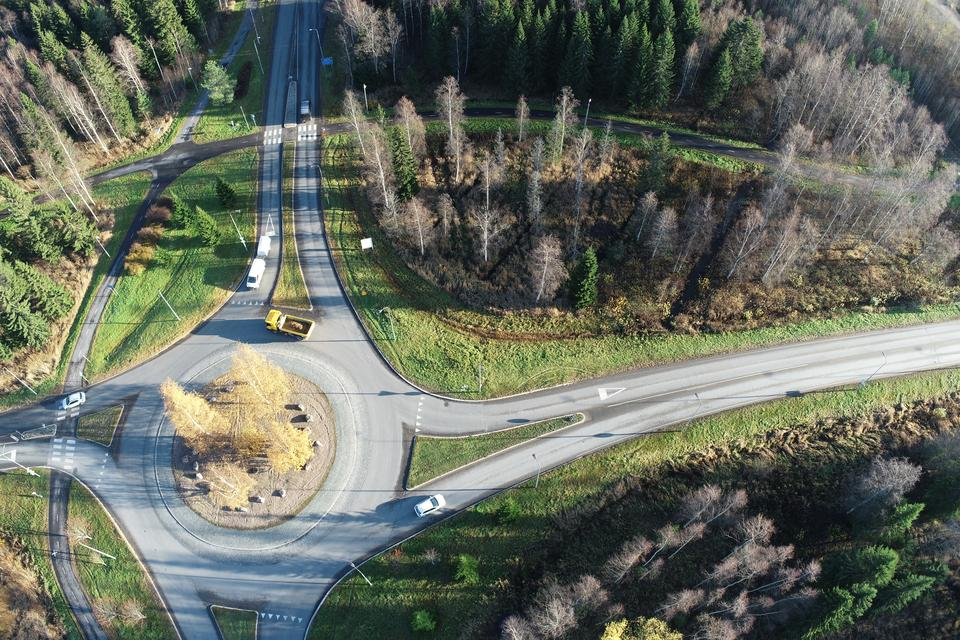intersection: (30, 367, 94, 485), (243, 102, 350, 155)
roundabout: (107, 257, 520, 611)
